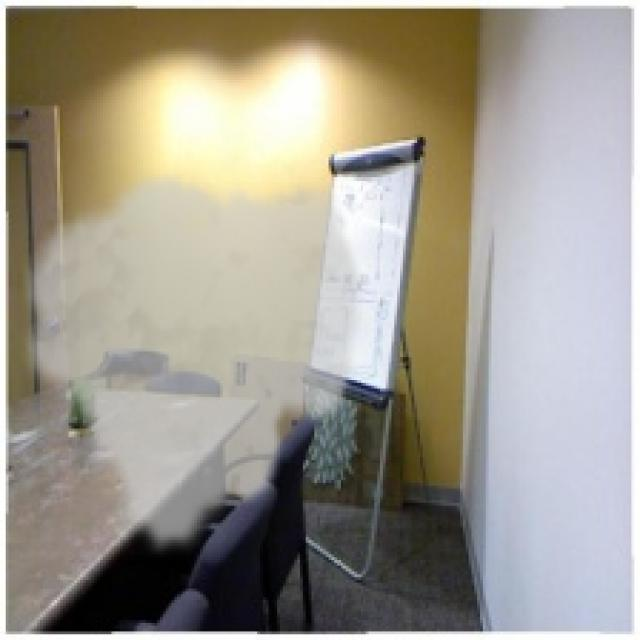smoke: (14, 169, 369, 560)
